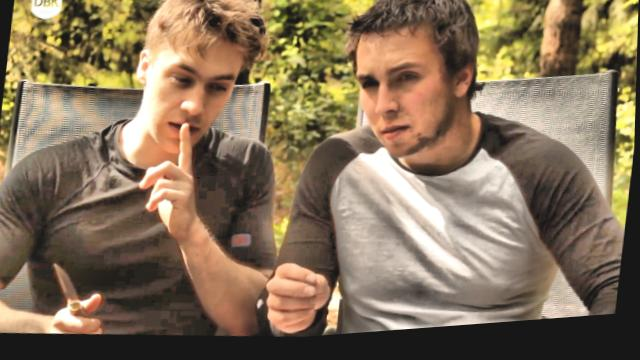knife: (39, 251, 120, 339)
